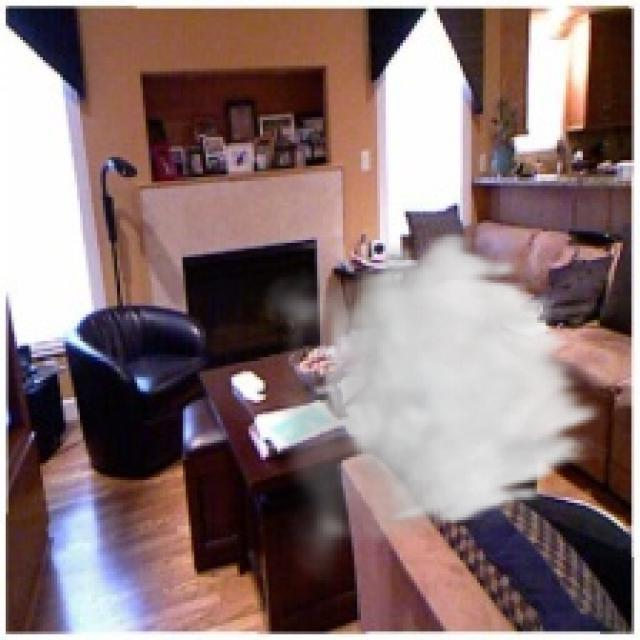Smoke: (254, 228, 609, 588)
